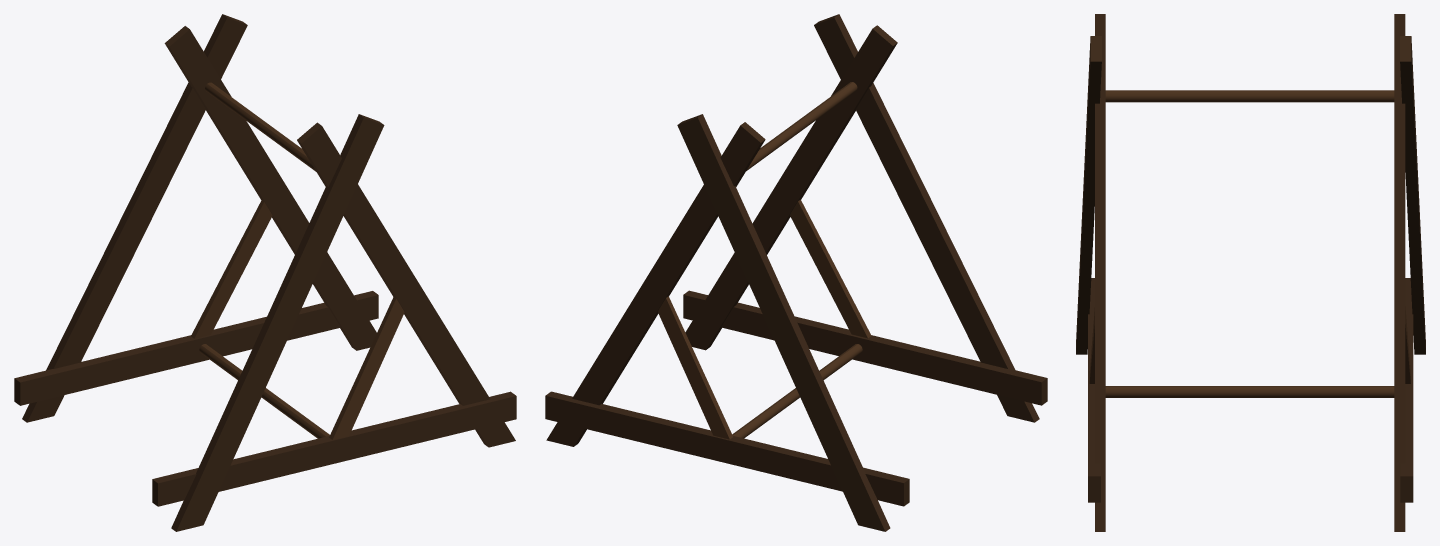
File: stand_for_barrels.fbx
The picture shows the model from 3 angles, left to right: view 1: azimuth 30°, elevation 25°; view 2: azimuth 150°, elevation 25°; view 3: azimuth 270°, elevation 25°; orthographic projection. The views are drawn at different scales.
Parts seen in each view (by area): view 1: stand_for_barrels; view 2: stand_for_barrels; view 3: stand_for_barrels.
Part boxes in pixels (x1,y1,x2,y2): stand_for_barrels: (14, 14, 516, 531); stand_for_barrels: (545, 14, 1047, 531); stand_for_barrels: (1076, 14, 1425, 531).
Size of the model in its own units: 367 by 352 by 272.
